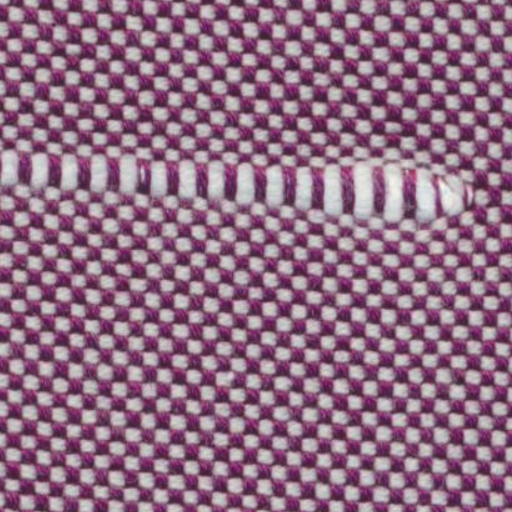DaiSha: (10, 130, 484, 239)
